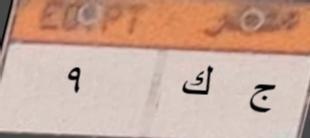9: (60, 60, 92, 101)
jeem: (242, 71, 281, 120)
kaaf: (179, 61, 219, 103)
